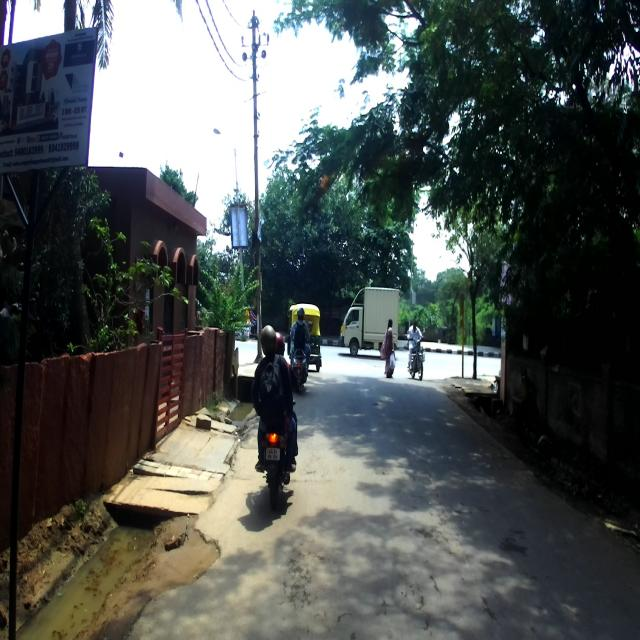motorcycle_RoyalEnfield: (407, 334, 426, 381)
motorcycle_TVS: (261, 382, 299, 509)
scooter: (288, 330, 310, 392)
truck: (339, 286, 399, 356)
